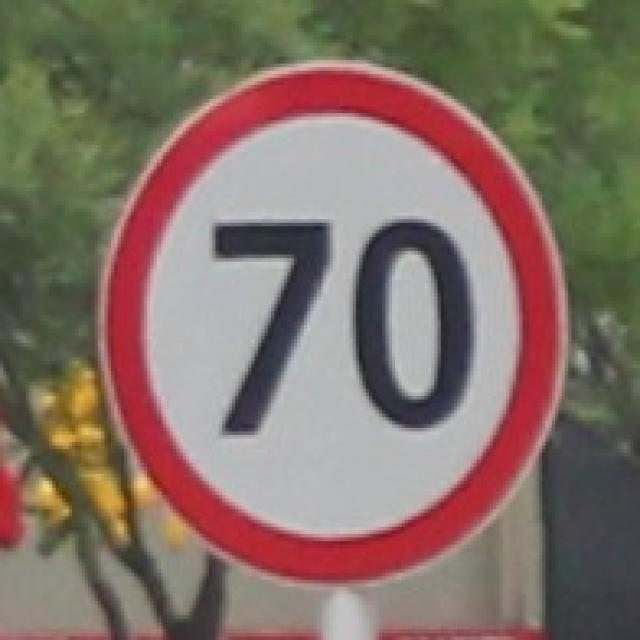Speed Limit -70-: (210, 204, 481, 446)
